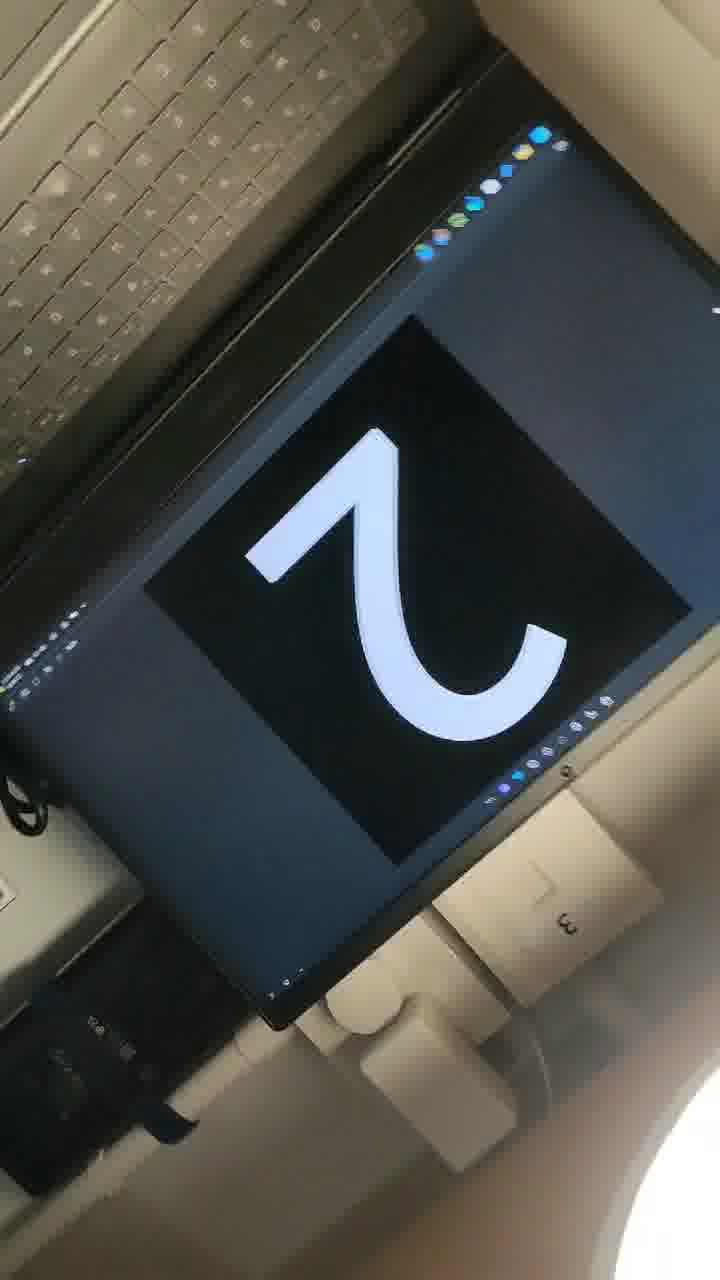two: (210, 391, 642, 876)
